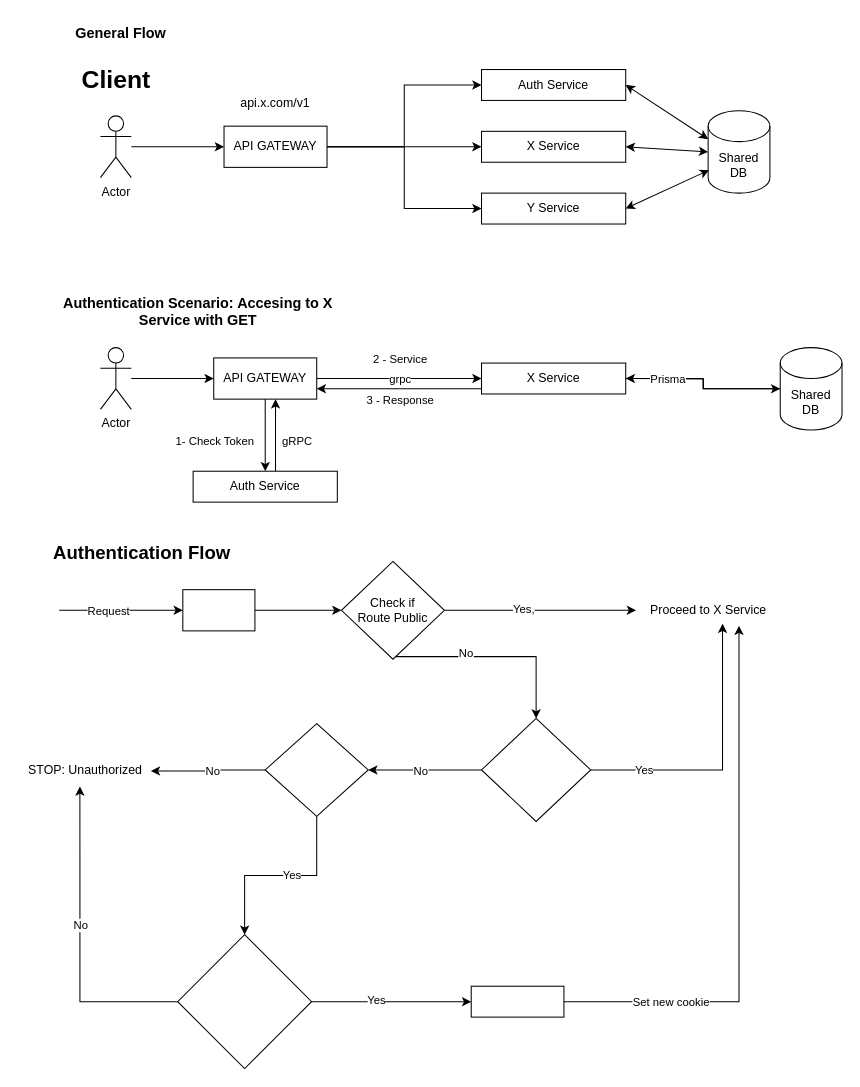
The diagram is 860 pixels wide and 1087 high, and some of its shapes have lost their labels. The box of each missing label's shape, as (x1, y1, x2, y2) in pixels:
AuthGuard: (182, 589, 255, 631)
Check if expiry date is in last 24 hours: (177, 934, 312, 1069)
Check if token signature valid: (264, 723, 368, 816)
Check if token valid: (480, 717, 591, 821)
Refresh Token: (470, 985, 564, 1017)
